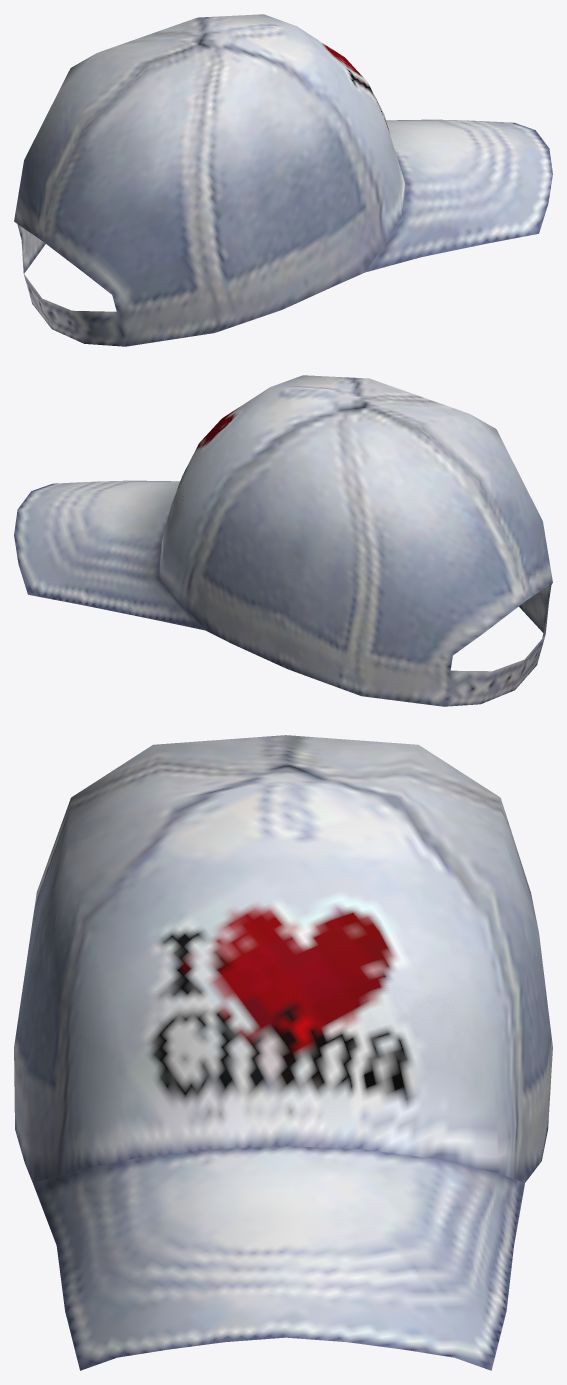
File: hat_0450024.FBX
3 views of the same model, one above another, from view 1: azimuth 30°, elevation 25°; view 2: azimuth 150°, elevation 25°; view 3: azimuth 270°, elevation 25° (orthographic). The views are drawn at different scales.
Visible parts, largest first — view 1: hat_0450024; view 2: hat_0450024; view 3: hat_0450024.
Part boxes in pixels (<box>): hat_0450024: <box>14,14,552,346</box>; hat_0450024: <box>14,375,552,706</box>; hat_0450024: <box>14,735,552,1370</box>.
Bounding box in the file's own units: 35.82 × 17.56 × 19.53.
